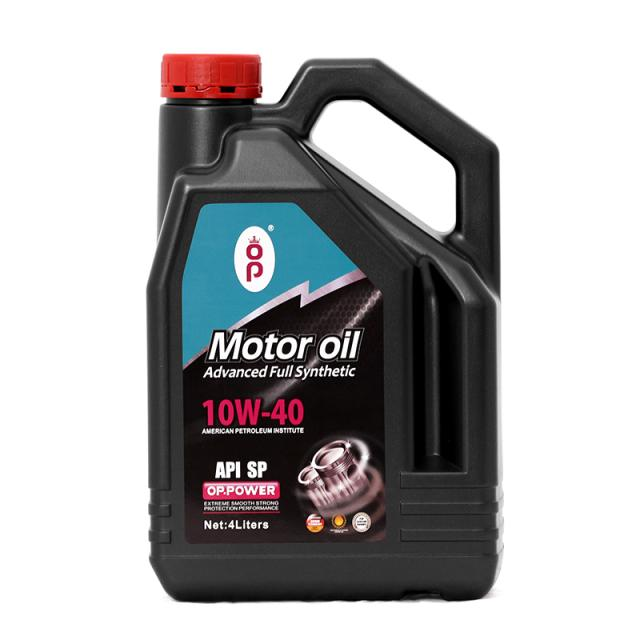motor_oil: (137, 43, 509, 609)
